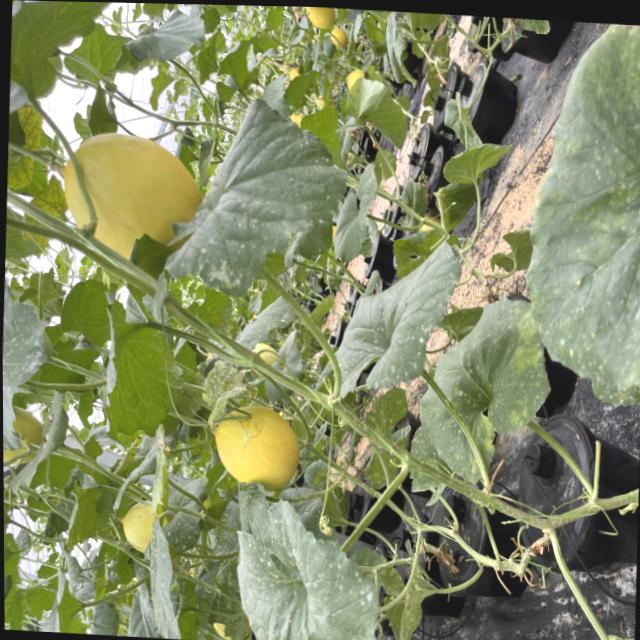alternaria leaf blight: (201, 356, 249, 427), (145, 428, 173, 517)
downy mildew: (514, 18, 640, 404), (415, 286, 545, 493), (85, 599, 118, 636)
healthy: (99, 286, 185, 449), (42, 278, 108, 395), (124, 4, 206, 77), (338, 76, 409, 151), (58, 19, 128, 93), (210, 33, 258, 113), (43, 578, 84, 633), (4, 530, 19, 604)
powdery mildew: (519, 19, 640, 412), (166, 98, 347, 295), (233, 493, 393, 640), (335, 230, 462, 407), (426, 295, 548, 472), (2, 262, 52, 453), (142, 519, 183, 639)
